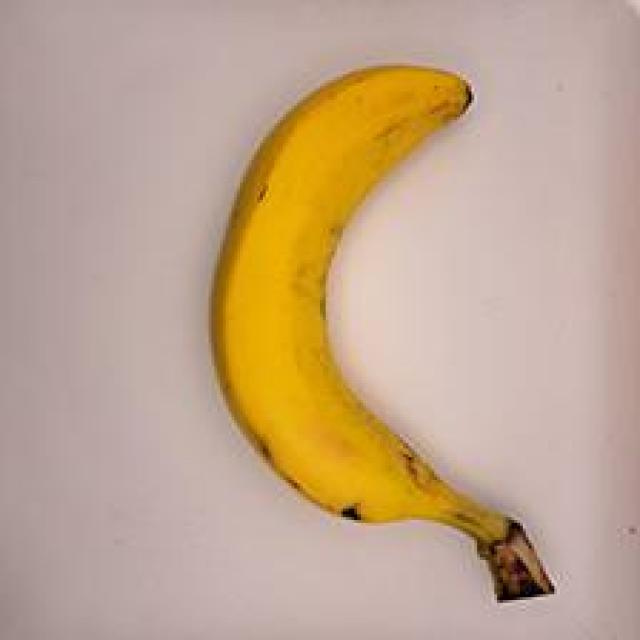ripe: (149, 0, 566, 618)
